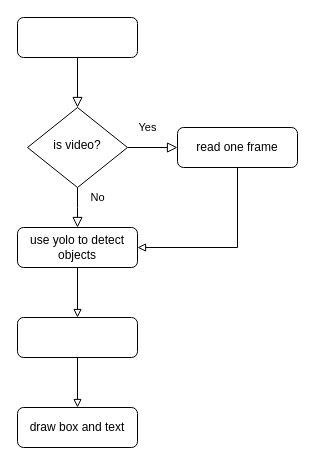
This 315x465 diagram has some shape labels left out. The shapes that lost their labels are listed below. From the top down, each one's centre as x and y in pixels, then its label:
(77,37): load yolo model
(77,337): sort objects
